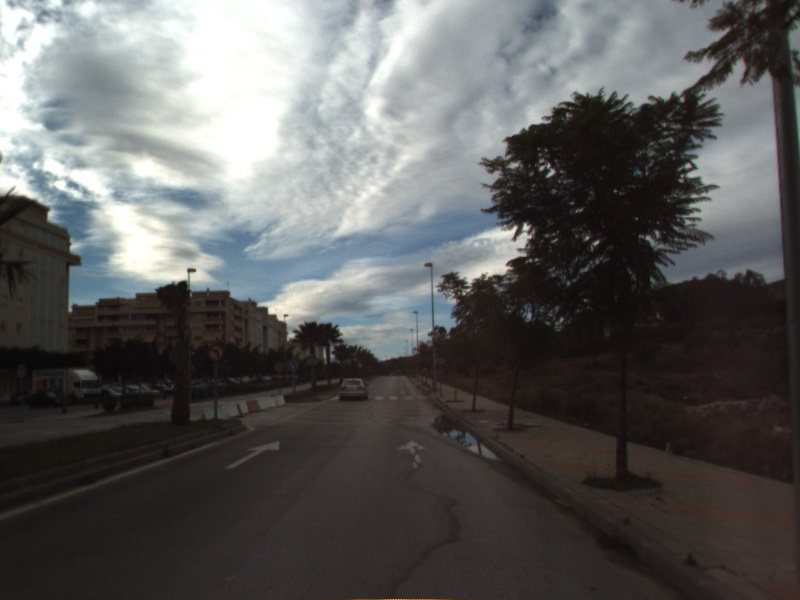STRAIGHT: (222, 439, 281, 471), (395, 438, 430, 471)
